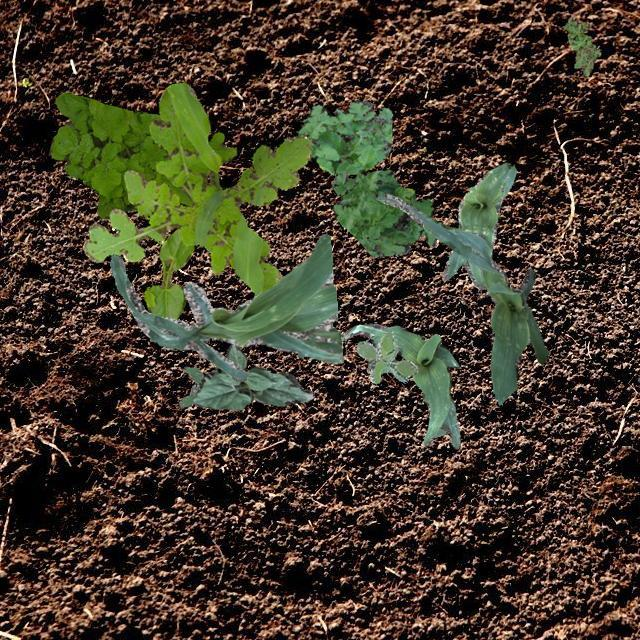crop: (374, 192, 550, 404), (109, 232, 342, 380), (340, 322, 460, 448), (442, 162, 516, 288), (192, 344, 312, 409), (142, 228, 194, 318)
weed: (82, 82, 310, 294), (48, 91, 235, 218), (330, 168, 434, 255), (298, 100, 390, 172), (356, 330, 416, 382), (562, 15, 600, 76), (178, 366, 202, 406)
